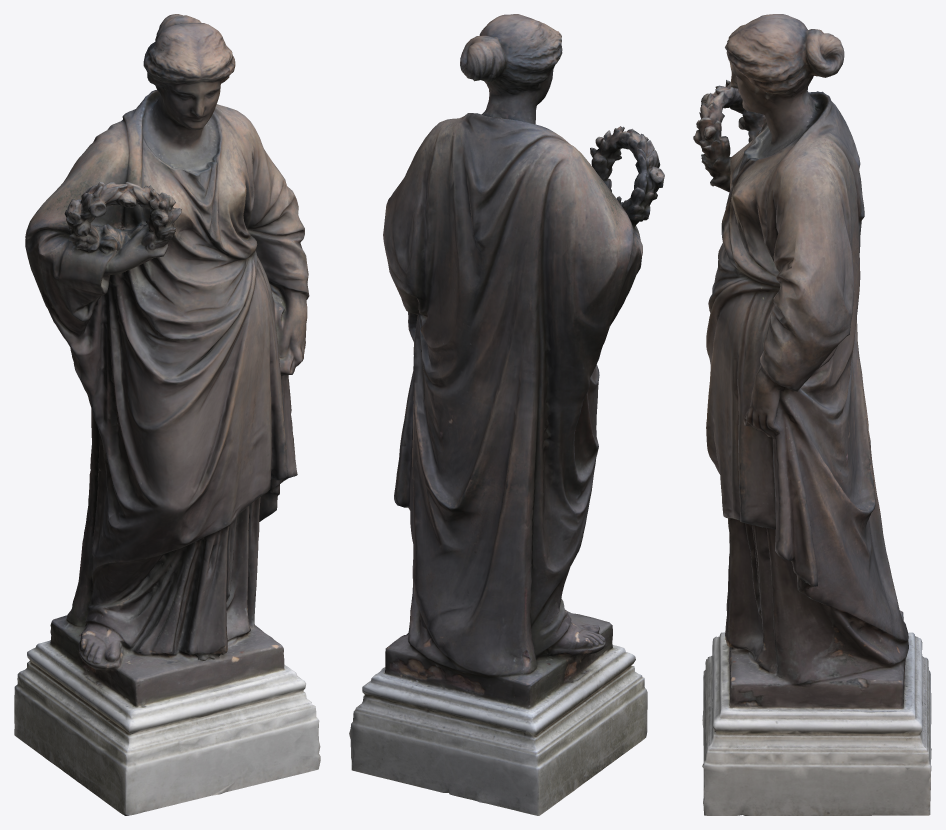
File: postament.glb
3 renders of one model, left to right at view 1: azimuth 30°, elevation 25°; view 2: azimuth 150°, elevation 25°; view 3: azimuth 270°, elevation 25°, orthographic. The views are drawn at different scales.
Visible parts, largest first — view 1: divka_dum_umeni; view 2: divka_dum_umeni; view 3: divka_dum_umeni.
Part boxes in pixels (left/top/right/bottom): divka_dum_umeni: left=14, top=14, right=320, bottom=815; divka_dum_umeni: left=349, top=14, right=664, bottom=815; divka_dum_umeni: left=693, top=14, right=931, bottom=815.
Size of the model in its own units: 0.7988 by 2.16 by 0.6231.
1 material, 1 textured.
